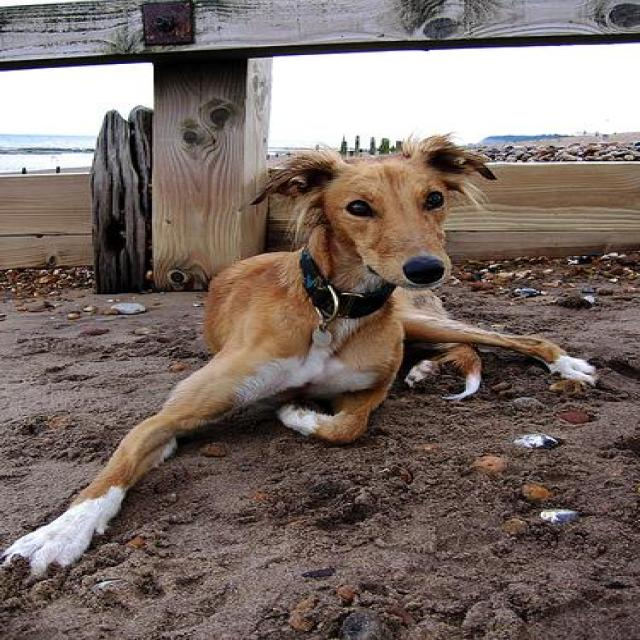saluki: (0, 128, 602, 589)
